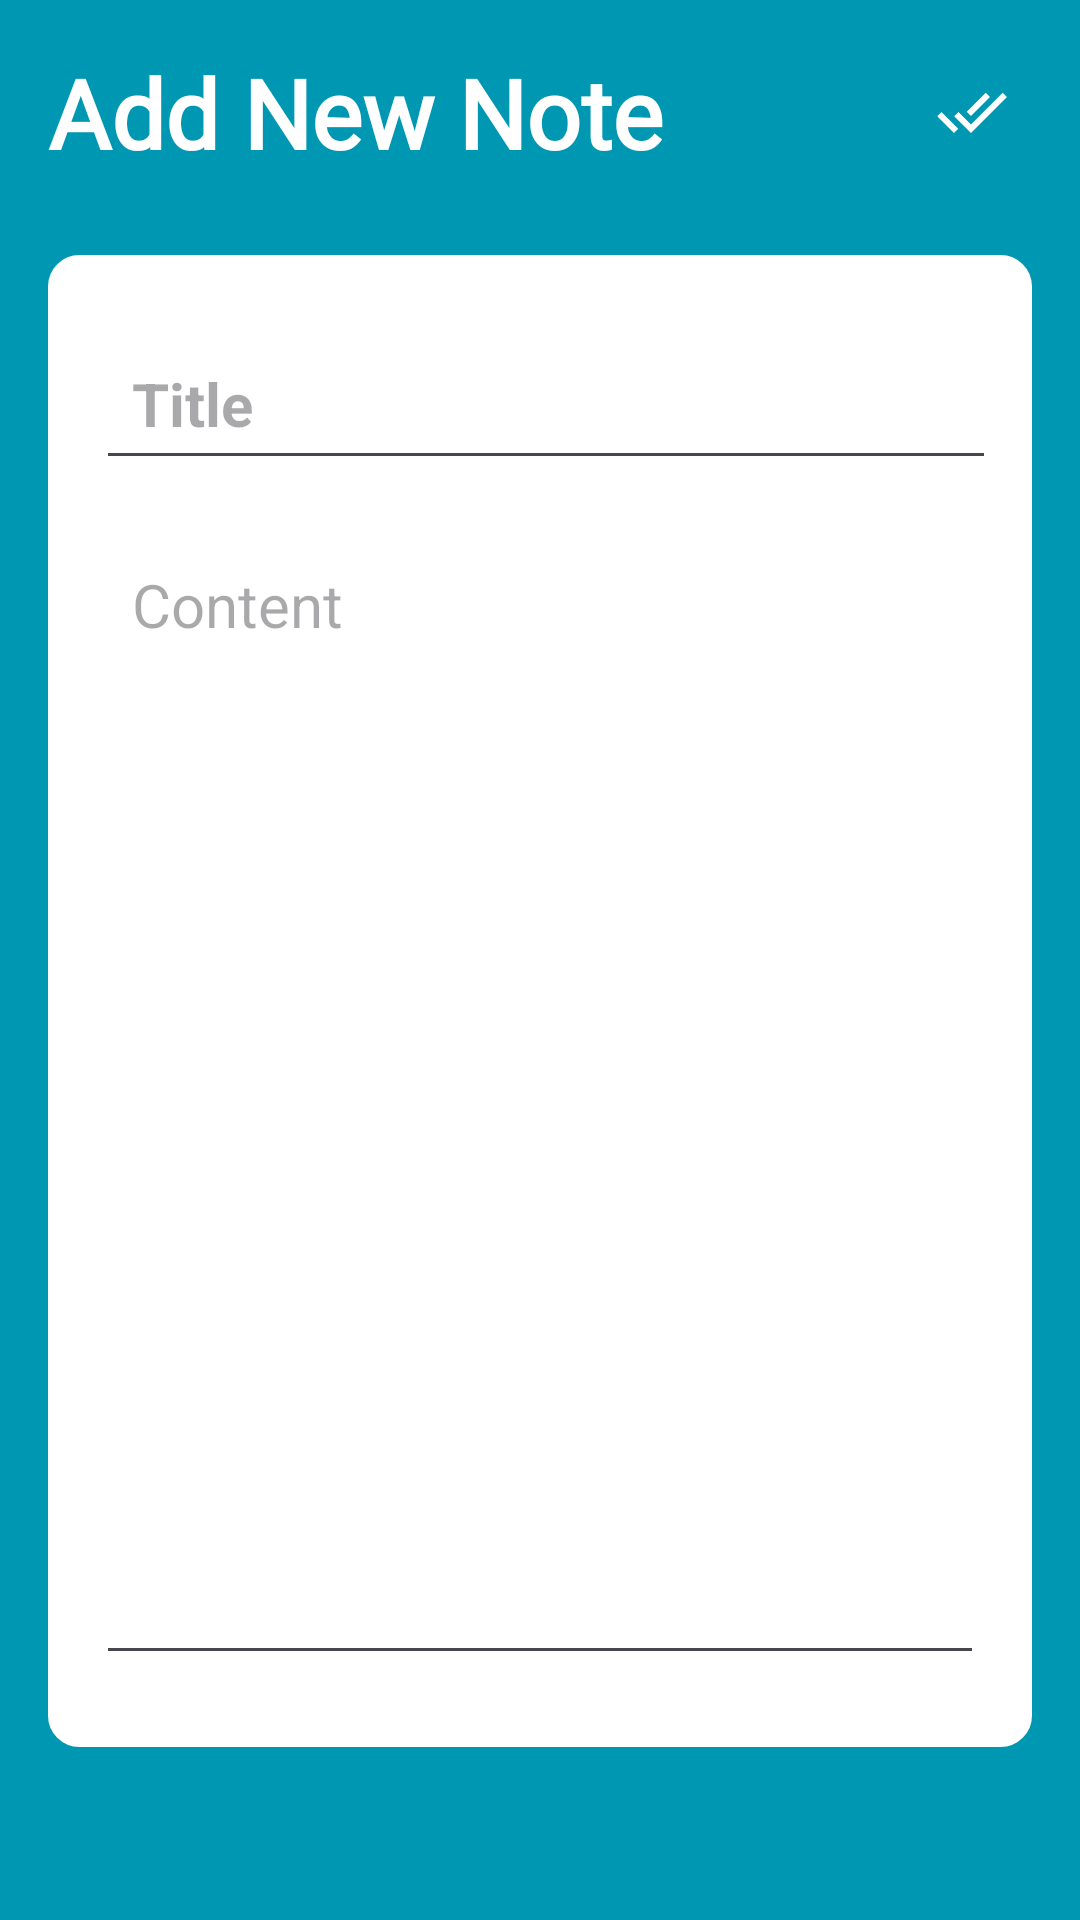

Where to tap for icons on this 1080*1920 app screen, as (x=x, y=y):
done all: (x=972, y=113)
